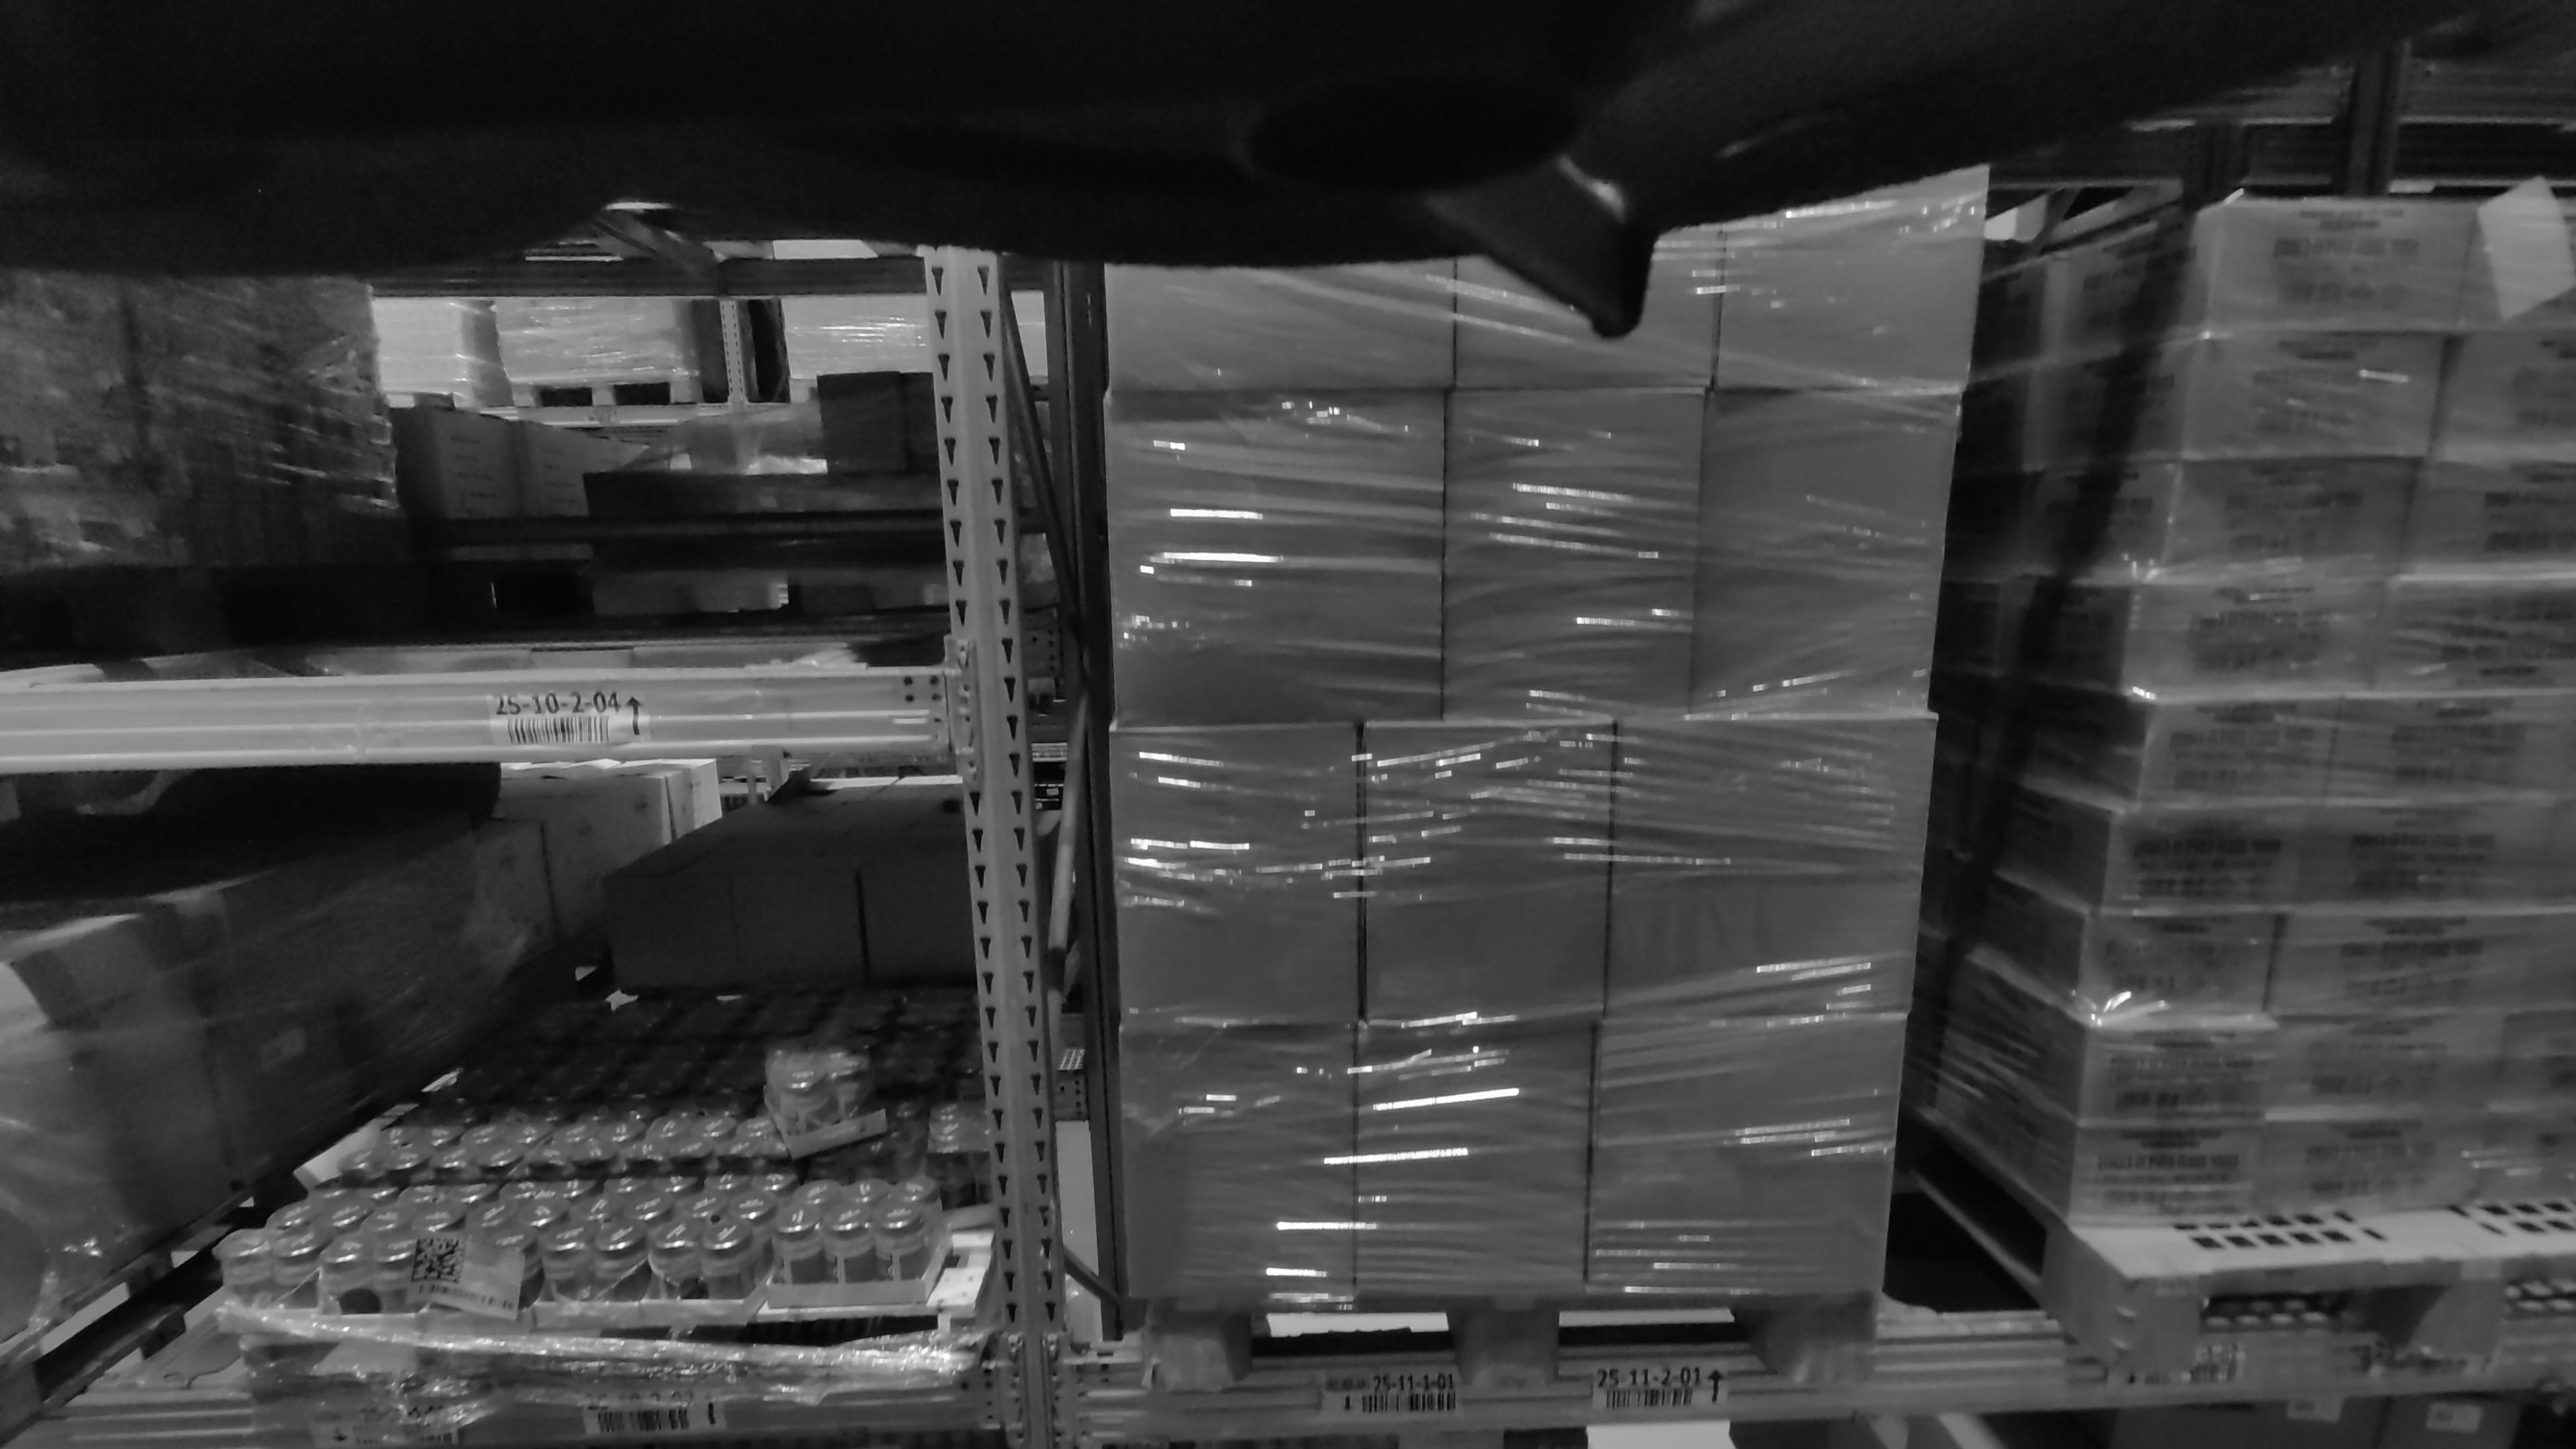empty-shelf: (58, 205, 924, 663)
